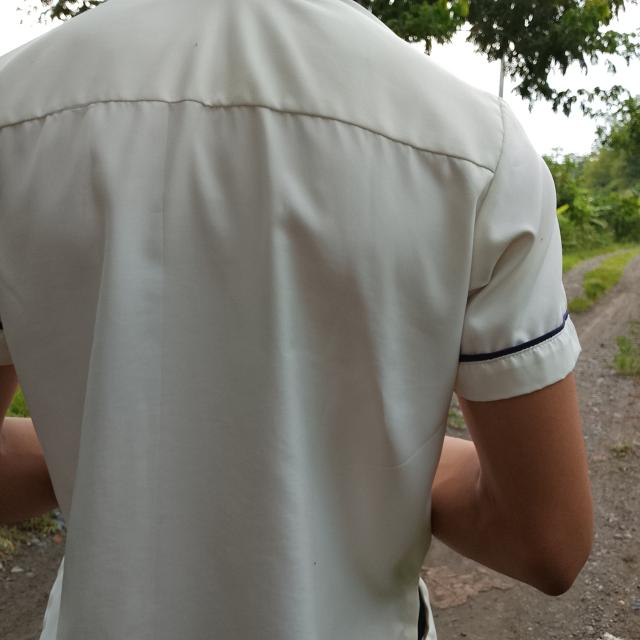education_male_uniform: (11, 7, 608, 463)
